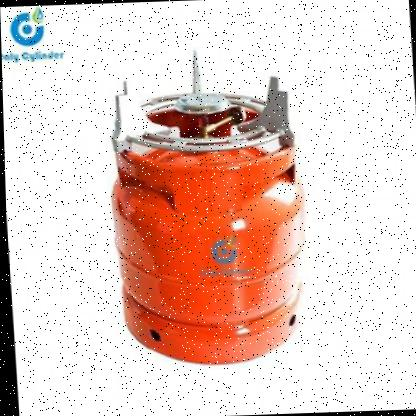gas-tank: (80, 72, 334, 380)
